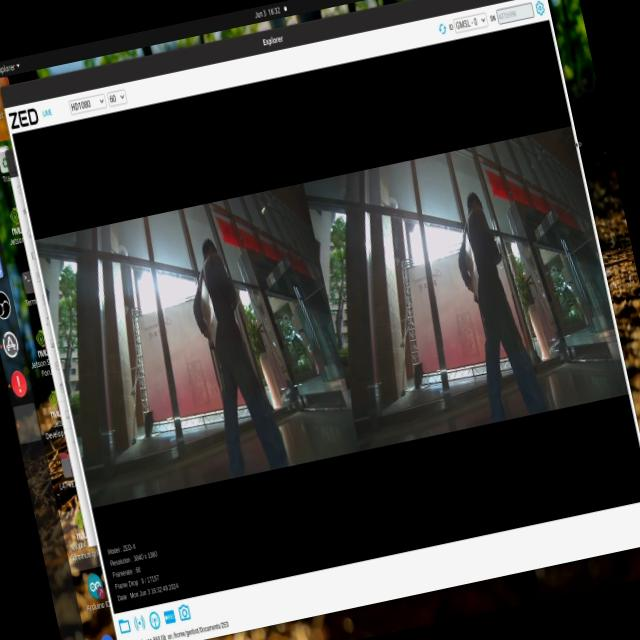red: (460, 245, 486, 293), (197, 294, 220, 339)
